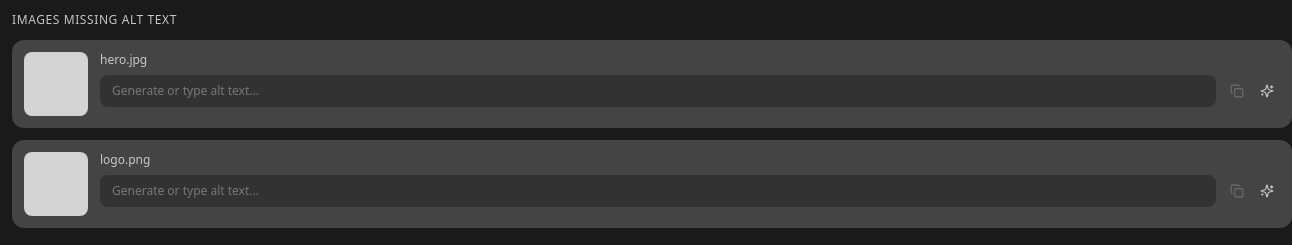
it: ImageAltTextList › displays generated text in input after generation
Click the 1st button titled "Generate alt text". click: (1267,91)
box: [1254,78,1280,104]
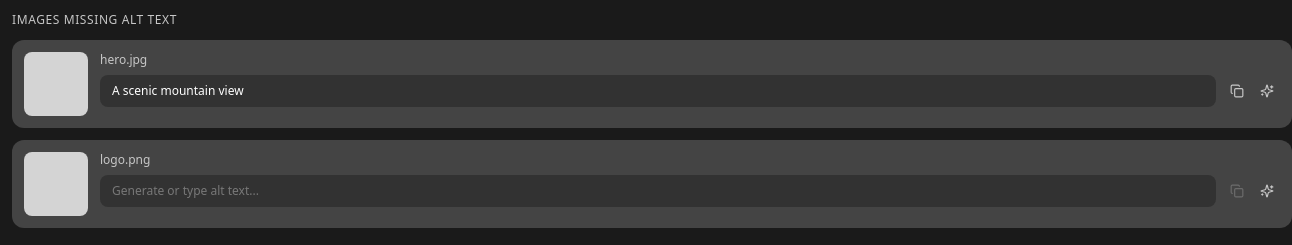
Expected: the field with placeholder "Generate or type alt text..." holds "A scenic mountain view", [100,75,1216,107]
